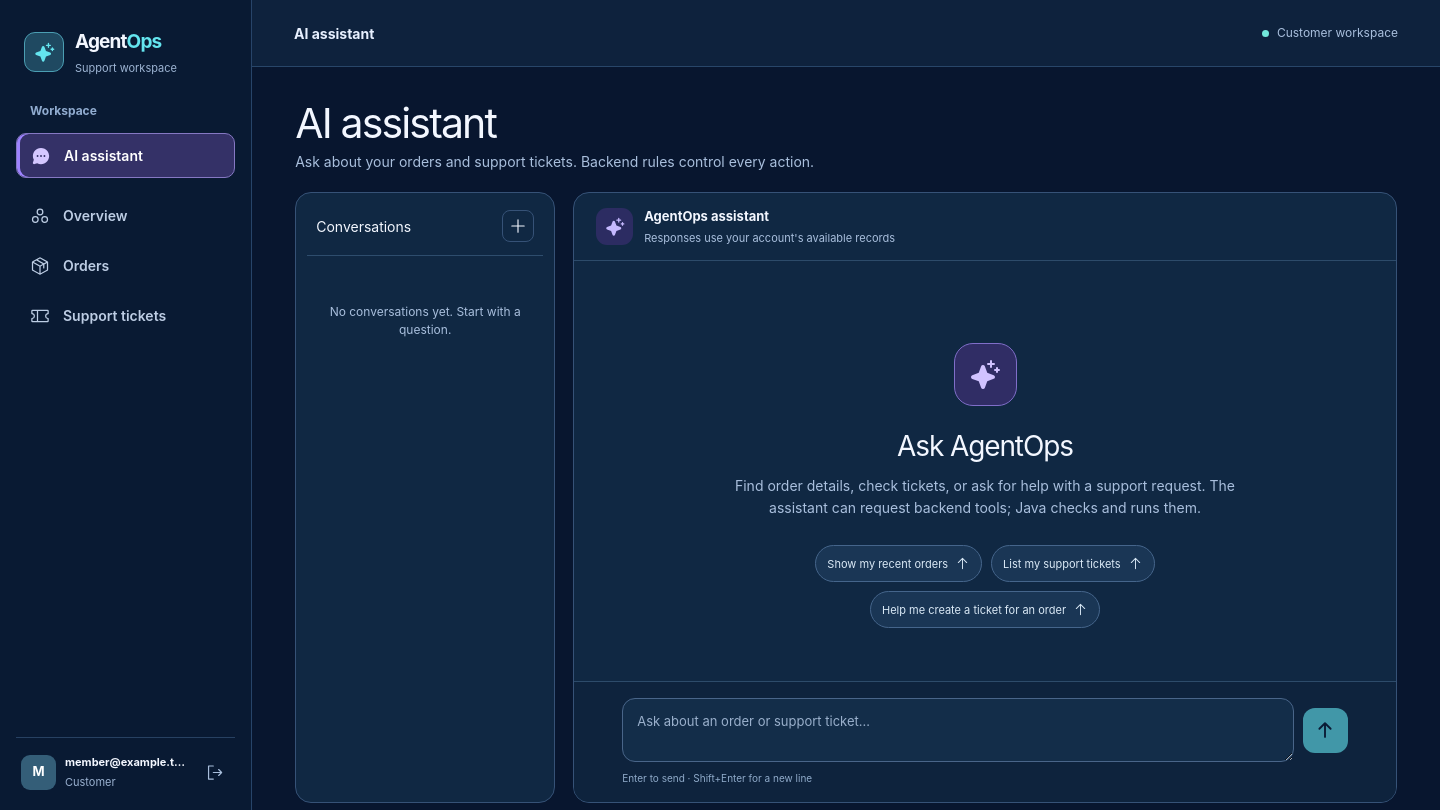
Test case: sends a real chat request, shows the returned message, and reports the actual tool count
Expected: the heading "Ask AgentOps" is shown, [897,429,1073,463]
Click the button "Show my recent orders" at (899, 564), box [815,546,982,582]
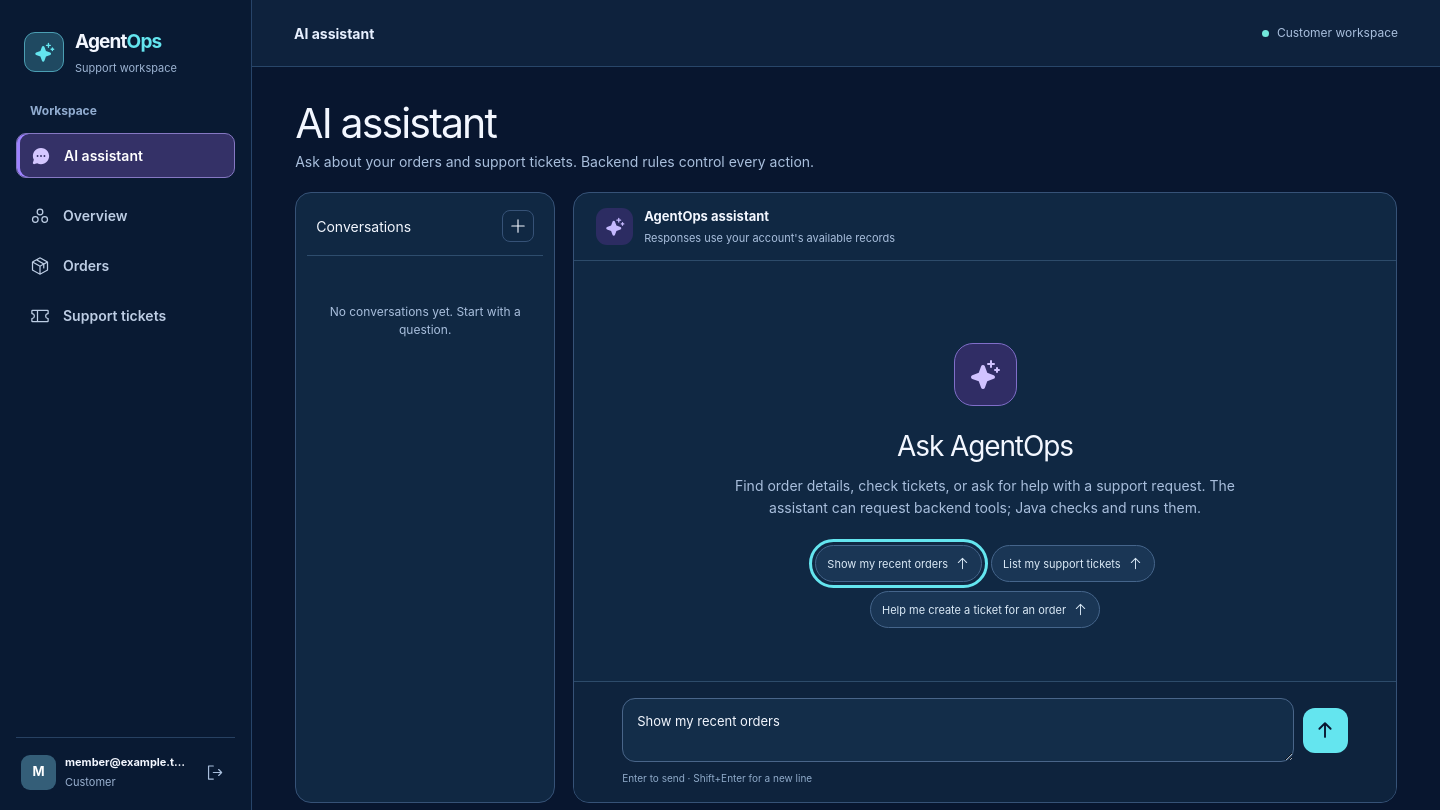
Click the button named "Send message" at (1325, 730), box [1303,708,1348,753]
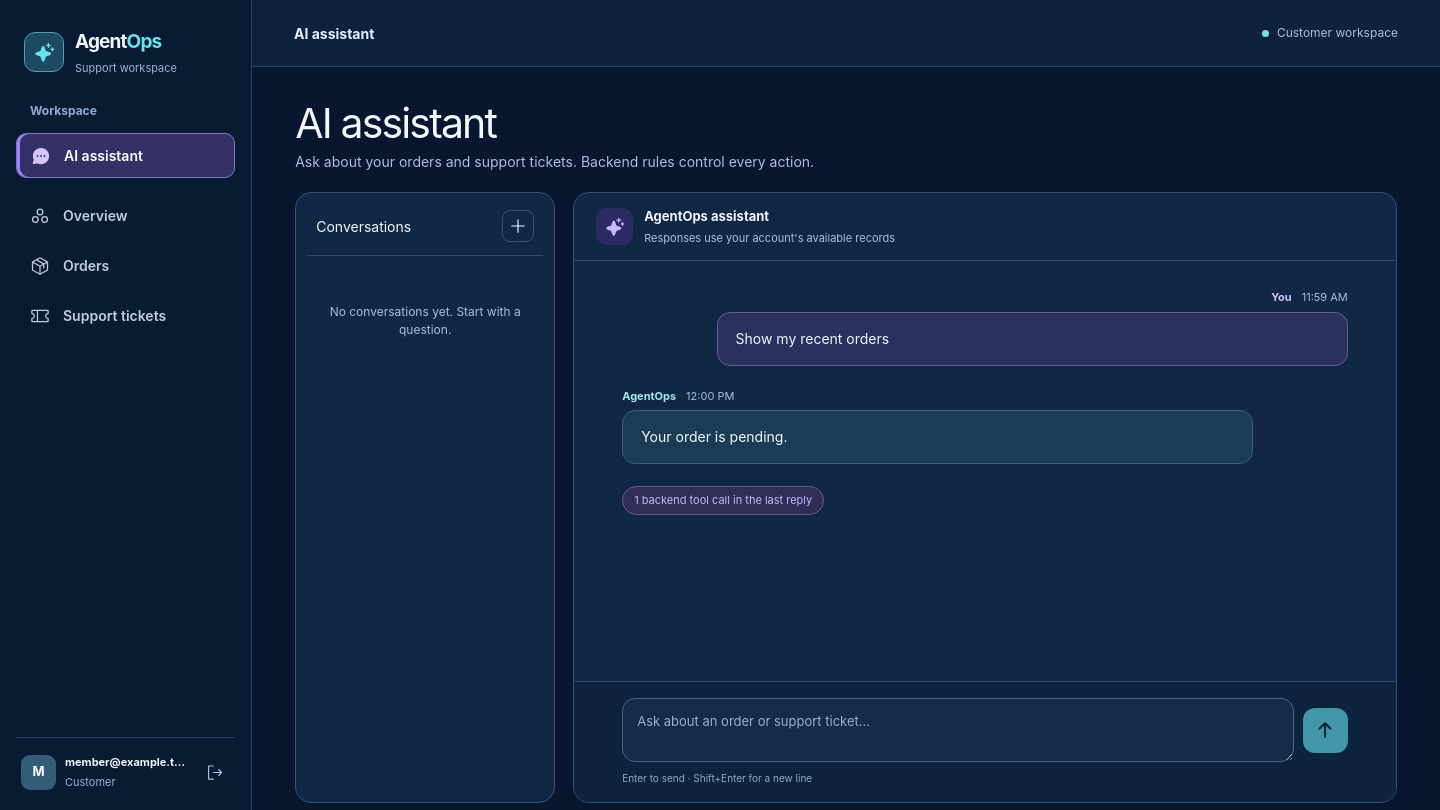
Now the text "Your order is pending." is shown, box [622,410,1254,464]
Now the text "1 backend tool call in the last reply" is shown, box [622,486,824,515]
